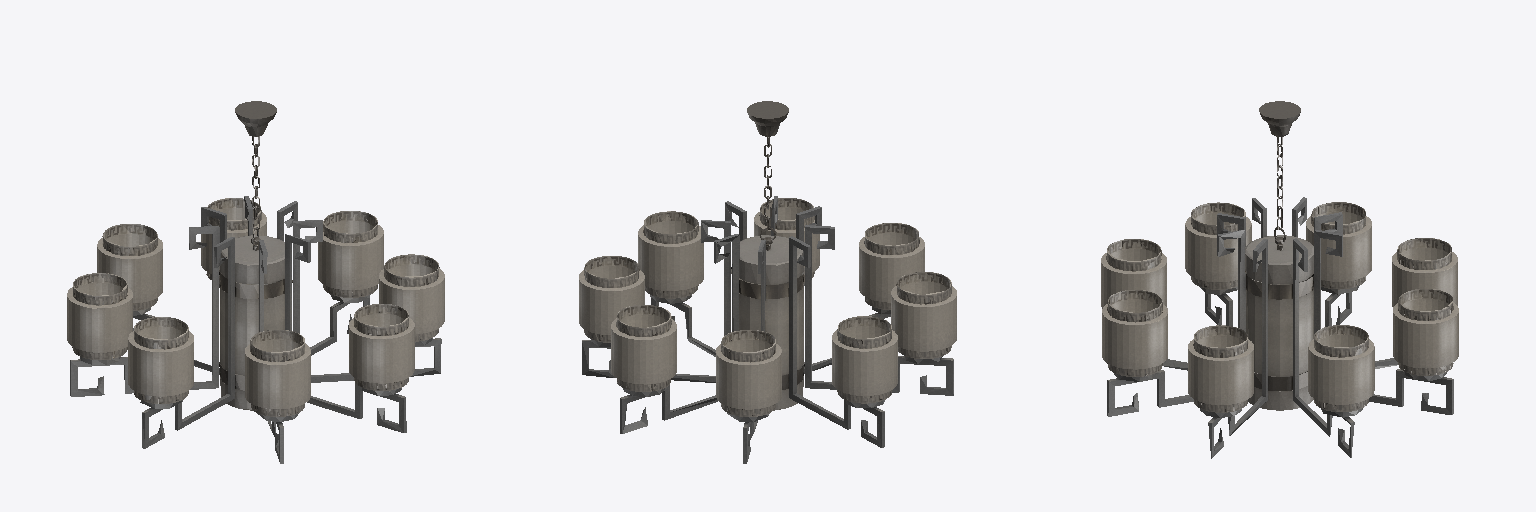
The picture shows the model from 3 angles: view 1: azimuth 30°, elevation 25°; view 2: azimuth 150°, elevation 25°; view 3: azimuth 270°, elevation 25°; orthographic projection.
Visible parts, largest first — view 1: glass_001, solid_003, solid_001; view 2: glass_001, solid_003, solid_001; view 3: glass_001, solid_003, solid_001.
Part boxes in pixels (x1,y1,x2,y2): glass_001: (67,198,444,416); solid_003: (70,196,441,463); solid_001: (72,101,439,415); glass_001: (579,198,956,416); solid_003: (582,196,953,463); solid_001: (584,101,951,415); glass_001: (1101,202,1458,412); solid_003: (1107,197,1453,458); solid_001: (1107,101,1453,411).
Size of the model in its own units: 0.8018 by 0.721 by 0.8018.
1 materials, 1 textured.